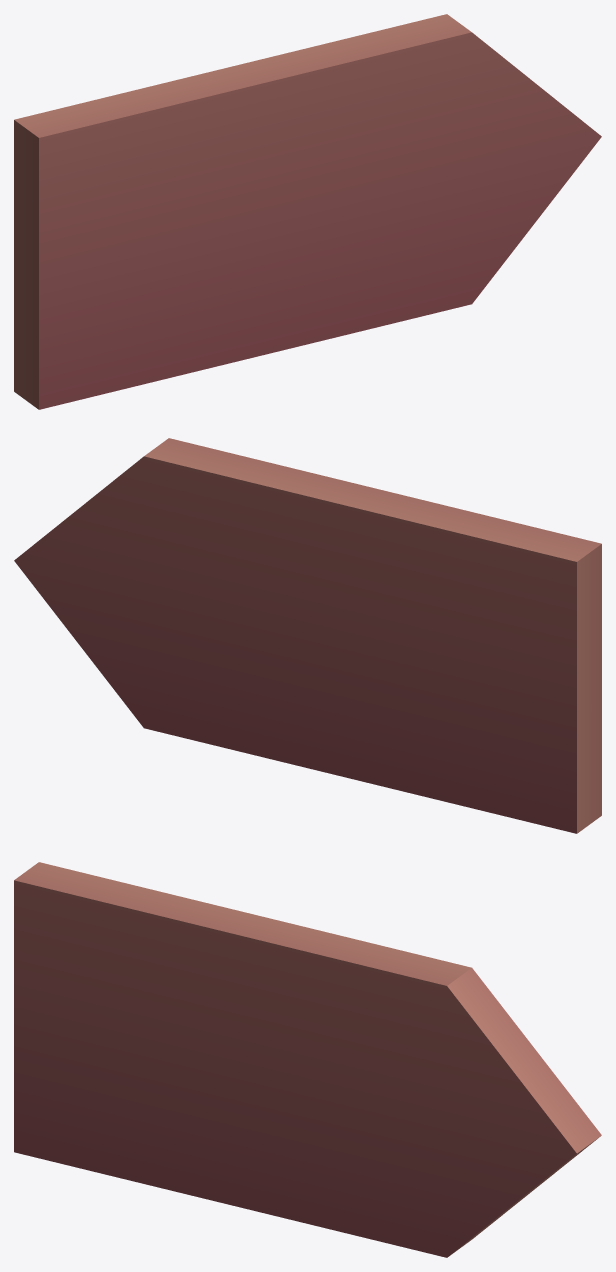
File: Sign_Wood_03.fbx
3 views of the same model, one above another, from view 1: azimuth 30°, elevation 25°; view 2: azimuth 150°, elevation 25°; view 3: azimuth 330°, elevation 25° (orthographic).
Visible parts, largest first — view 1: Sign_Wood_03; view 2: Sign_Wood_03; view 3: Sign_Wood_03.
Part boxes in pixels (bbox=[...]): Sign_Wood_03: bbox=[14, 14, 601, 409]; Sign_Wood_03: bbox=[14, 438, 601, 833]; Sign_Wood_03: bbox=[14, 862, 601, 1257].
Size of the model in its own units: 130 by 60 by 10.
